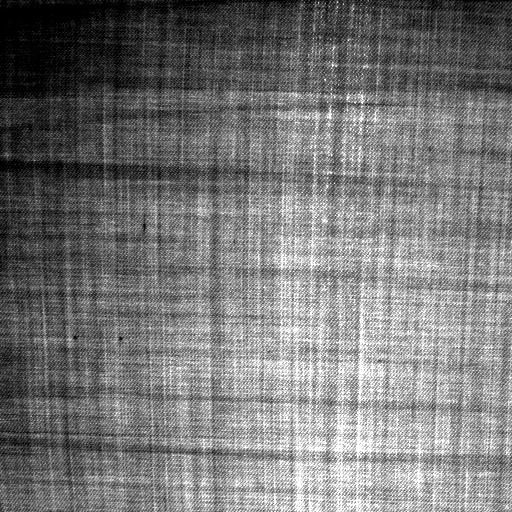fabric_thick_weft: (68, 328, 128, 346)
